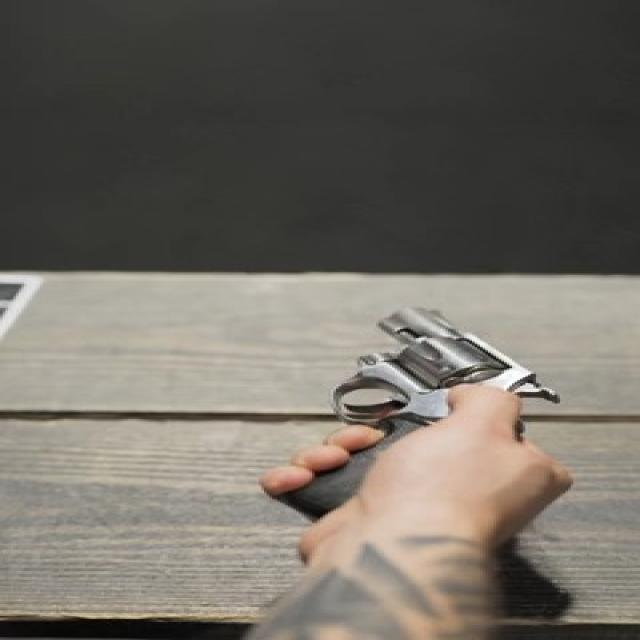Gun_Holder: (190, 281, 610, 538)
